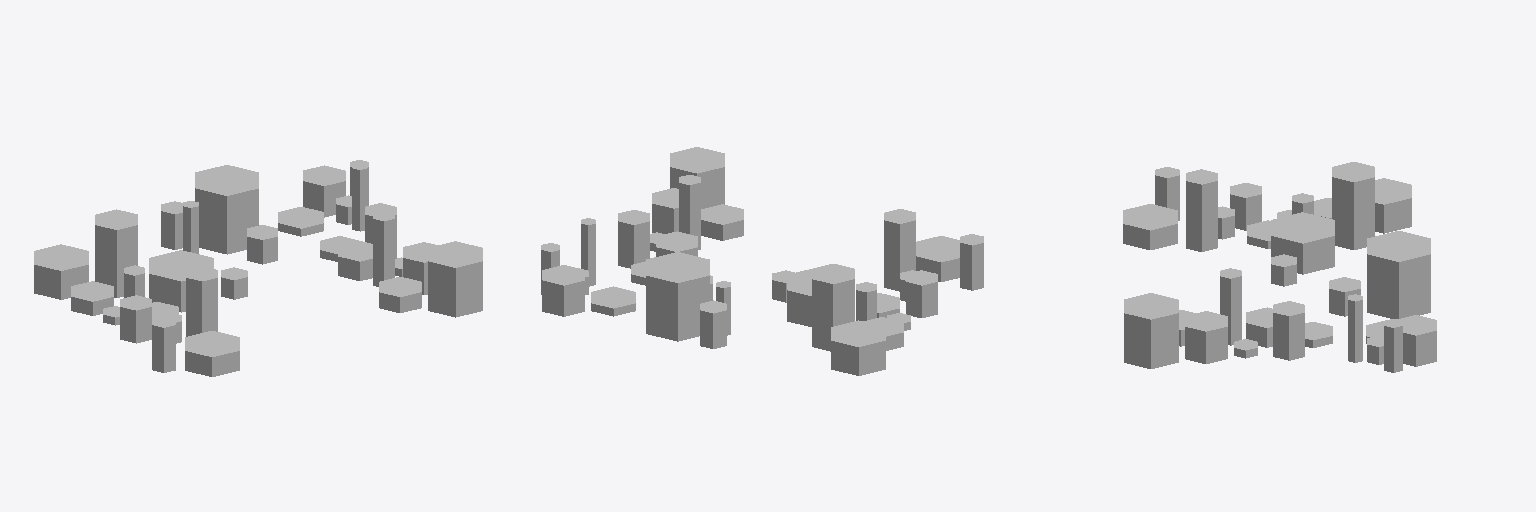
Rendered from virtual.obj.
3 views of the same model, side by side, from view 1: azimuth 30°, elevation 25°; view 2: azimuth 150°, elevation 25°; view 3: azimuth 270°, elevation 25° (orthographic).
Visible parts, largest first — view 1: Y3, Z8, X11, X10, X12, X2, X3, Y6, Z5, X5, Z7, X1 (+11 smaller); view 2: Y3, X11, X10, Z8, X3, Y6, Z2, X2, X5, Z7, Z5, X12 (+8 smaller); view 3: Y3, Z8, X11, X12, X3, X2, Z6, X10, Z2, Y6, Z5, X5 (+8 smaller).
Boxes of the visible parts, x1,y1,x2,y2 form: Y3: [195, 165, 258, 254]; Z8: [428, 241, 482, 317]; X11: [95, 209, 137, 297]; X10: [34, 244, 88, 299]; X12: [149, 250, 213, 312]; X2: [185, 331, 239, 376]; X3: [186, 266, 217, 336]; Y6: [303, 165, 345, 217]; Z5: [373, 211, 394, 286]; X5: [120, 295, 151, 343]; Z7: [379, 277, 421, 312]; X1: [152, 316, 175, 372]; Y3: [646, 252, 709, 341]; X11: [812, 264, 854, 351]; X10: [831, 320, 885, 375]; Z8: [670, 147, 724, 208]; X3: [884, 209, 915, 291]; Y6: [542, 265, 584, 316]; Z2: [618, 210, 649, 268]; X2: [916, 236, 959, 281]; X5: [906, 270, 937, 317]; Z7: [701, 204, 743, 240]; Z5: [679, 175, 700, 249]; X12: [787, 269, 811, 326]; Y3: [1367, 231, 1430, 318]; Z8: [1124, 293, 1178, 368]; X11: [1332, 162, 1374, 249]; X12: [1271, 212, 1334, 274]; X3: [1186, 169, 1217, 251]; X2: [1123, 204, 1177, 249]; Z6: [1185, 311, 1227, 363]; X10: [1375, 178, 1411, 233]; Z2: [1273, 301, 1304, 360]; Y6: [1397, 315, 1436, 366]; Z5: [1220, 268, 1241, 345]; X5: [1230, 183, 1261, 230].
Bounding box in the file's own units: 12.5 × 2.39 × 10.